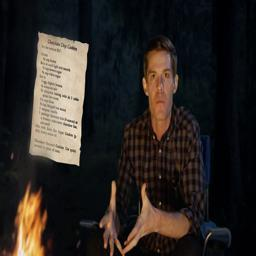fire: (10, 182, 47, 256)
